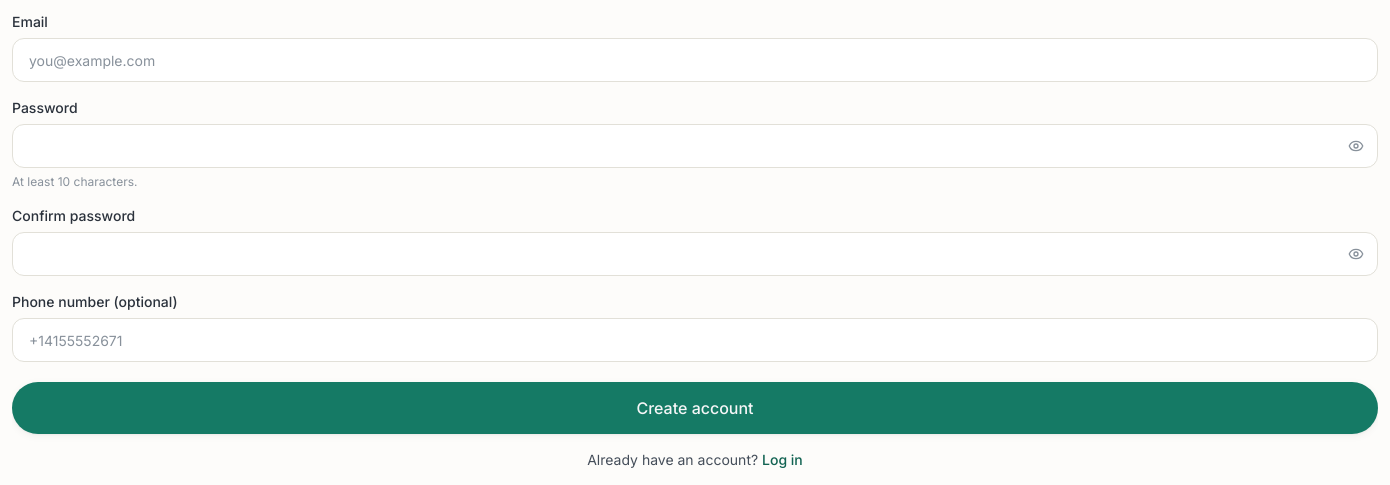
Test case: SignupForm › does not show any phone verification UI when the phone field was left blank
The width and height of the screenshot is (1390, 485).
Type "user@example.com" into the field labelled "Email" at (695, 60), box [12,38,1378,82]
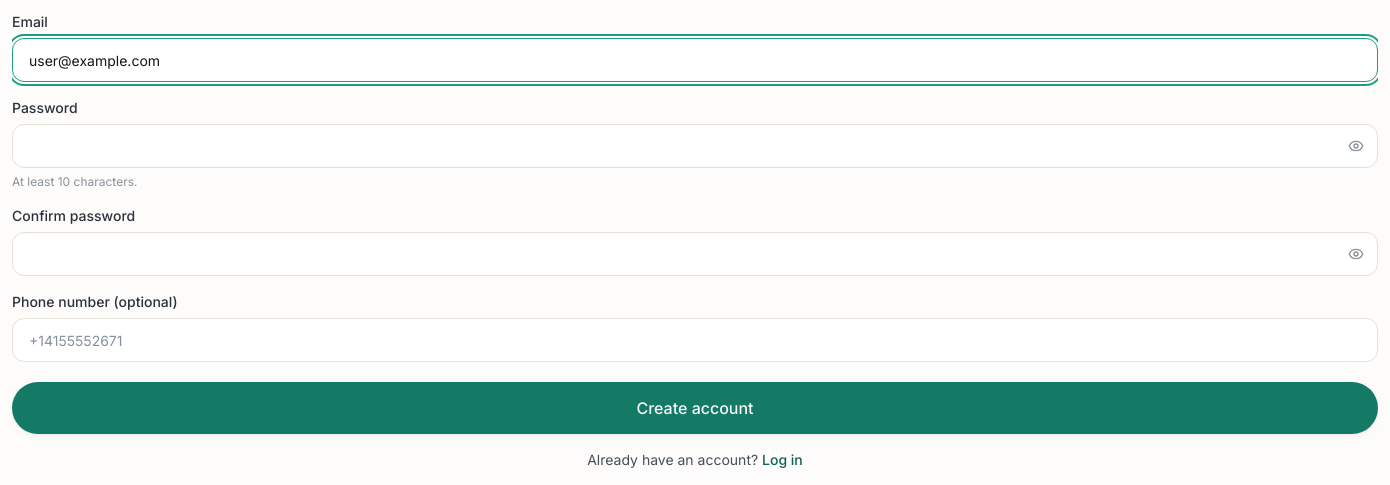
Type "longenoughpassword" into the password field labelled "Password" at (695, 146), box [12,124,1378,168]
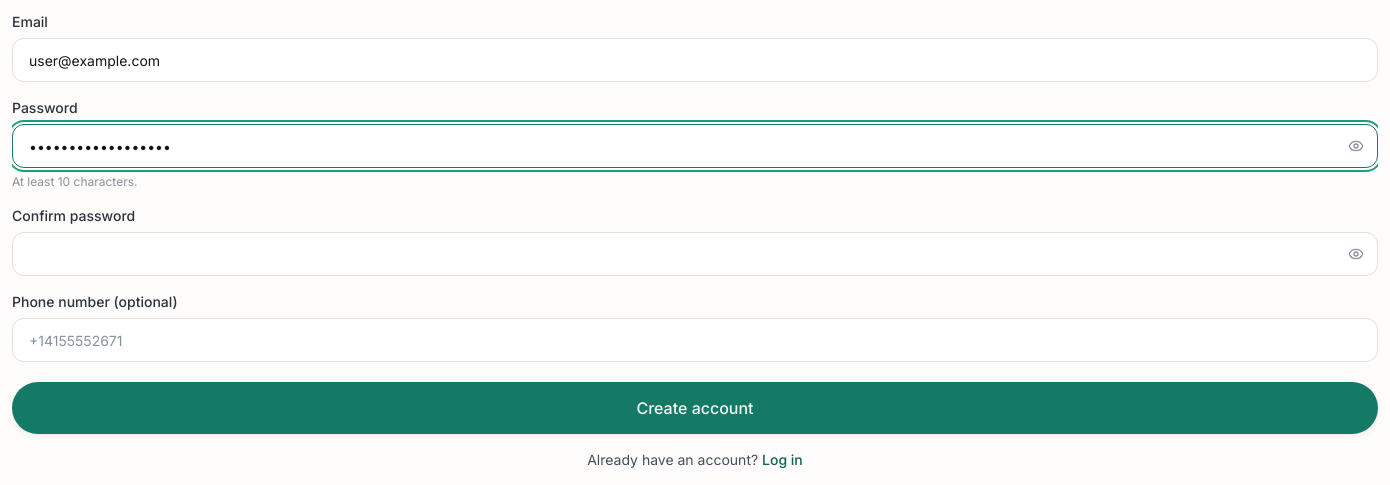
Type "longenoughpassword" into the password field labelled "Confirm password" at (695, 254), box [12,232,1378,276]
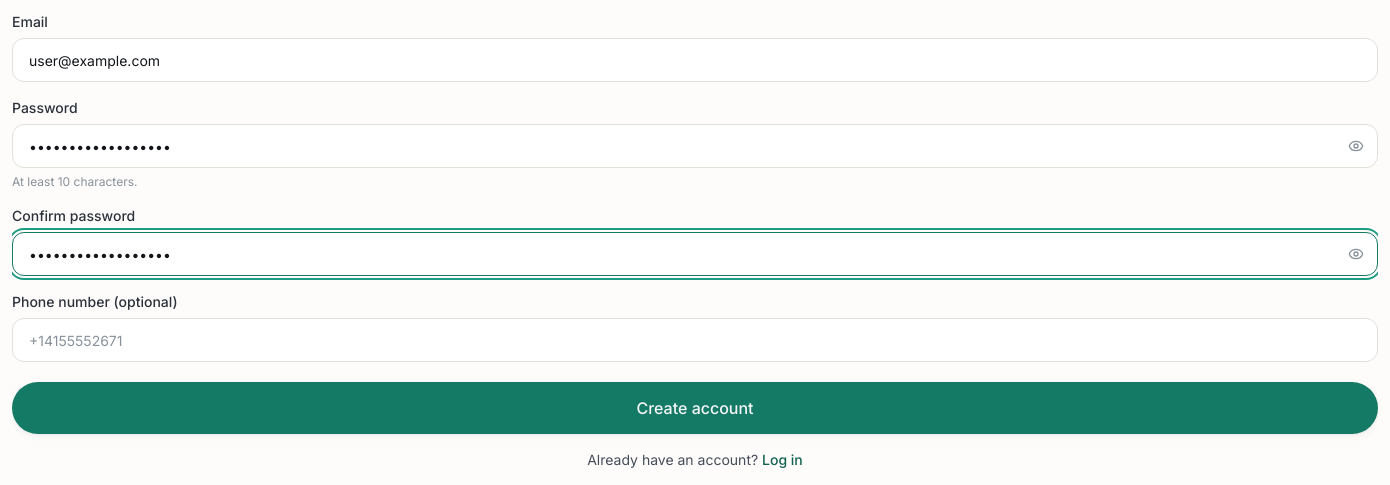
Click the button "Create account" at (695, 408), box [12,382,1378,434]
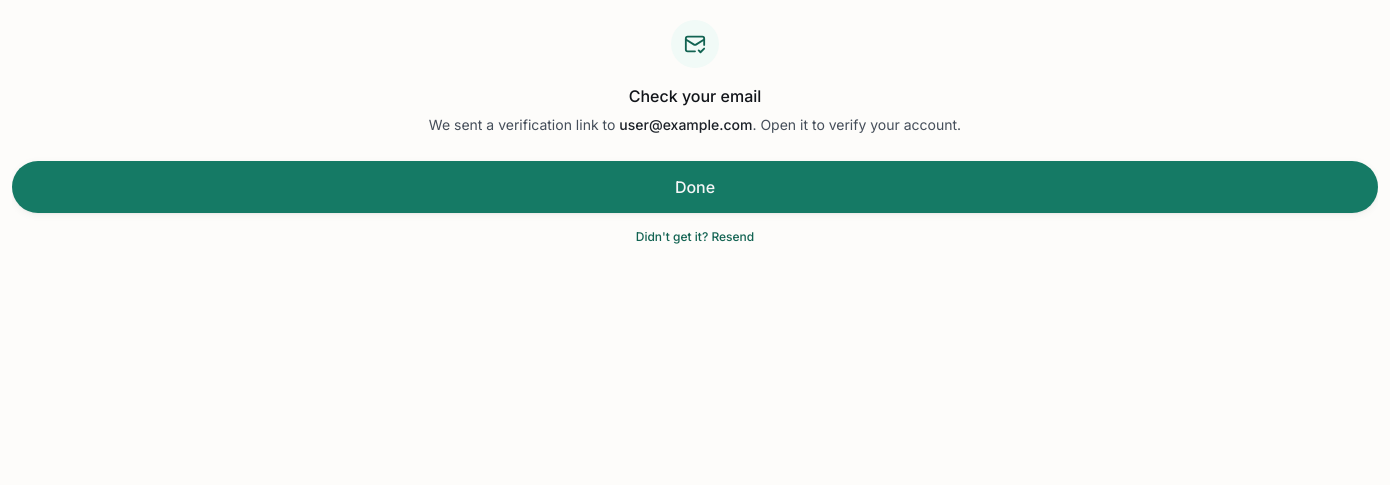
Now the text "Check your email" is shown, box [629,86,761,106]
